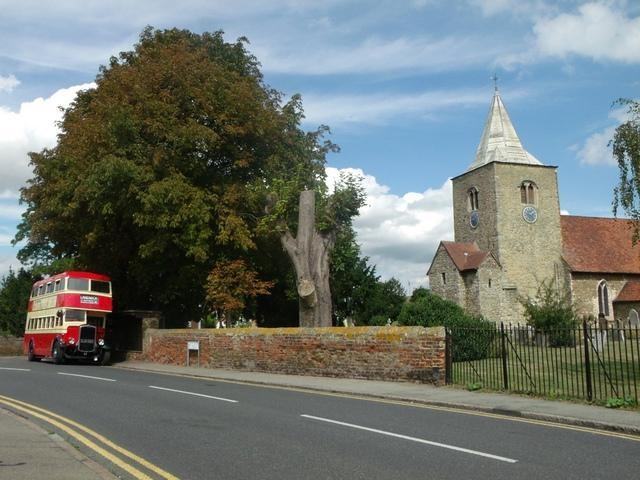bus: (24, 272, 112, 366)
